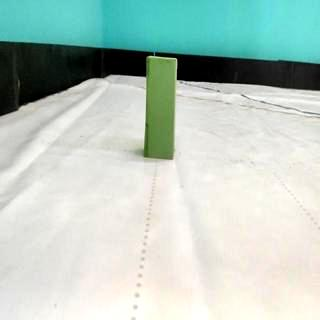greenbox: (145, 56, 179, 160)
